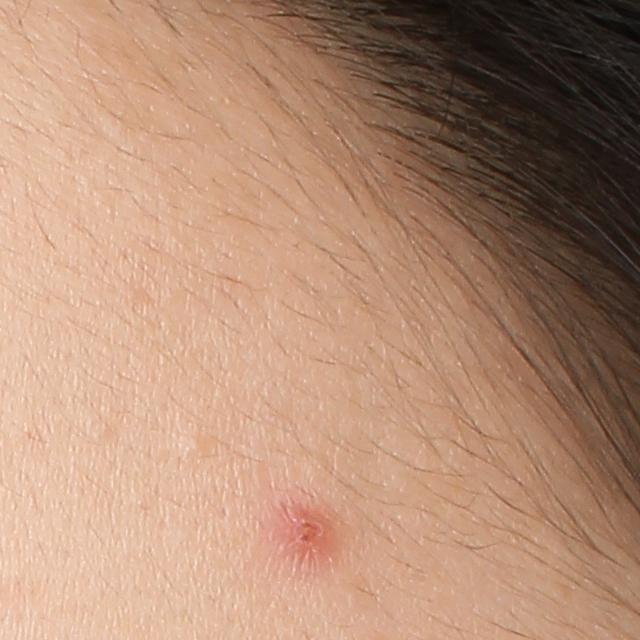comedo: (180, 434, 208, 463)
papule: (270, 503, 332, 566)
